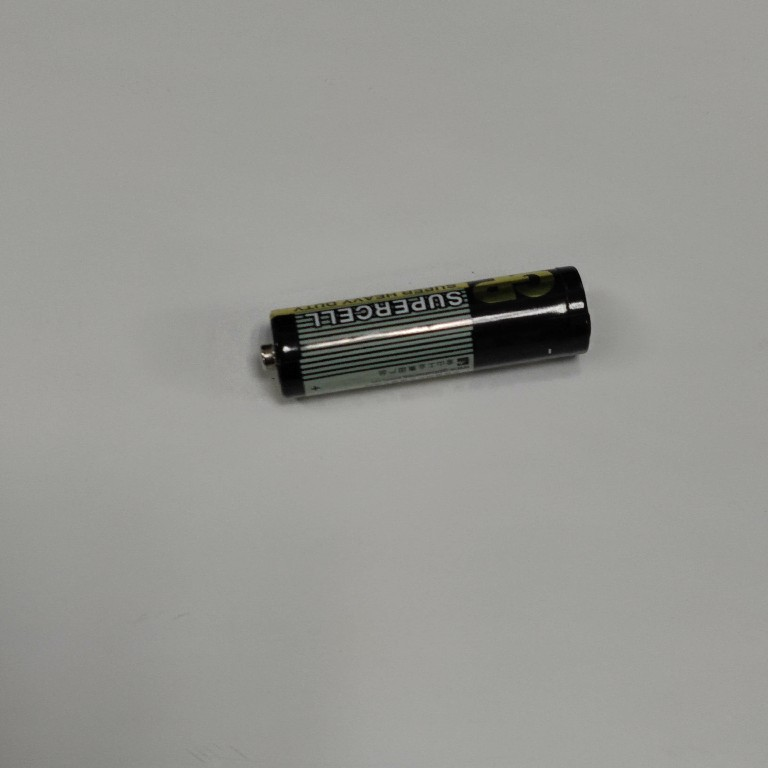charge: (256, 263, 595, 401)
